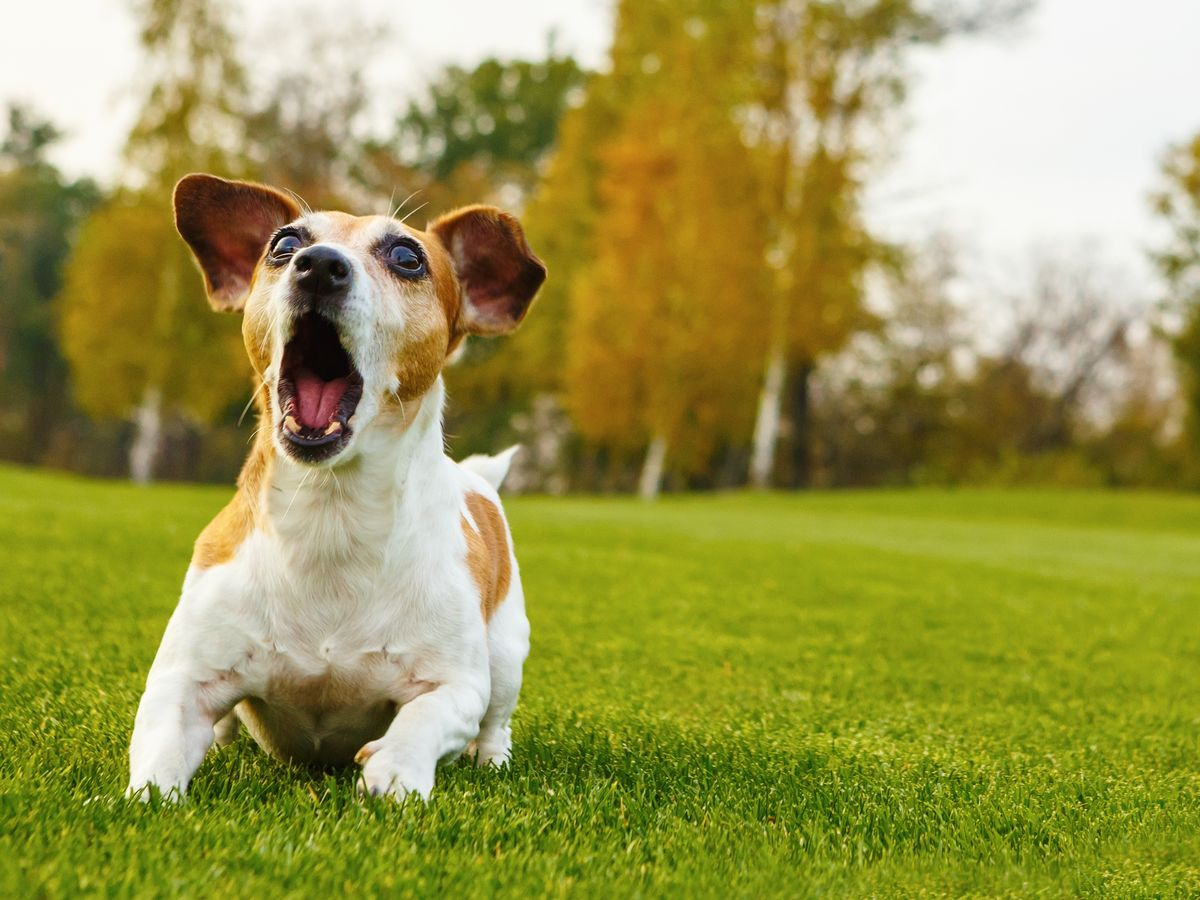dog: (130, 164, 531, 810)
